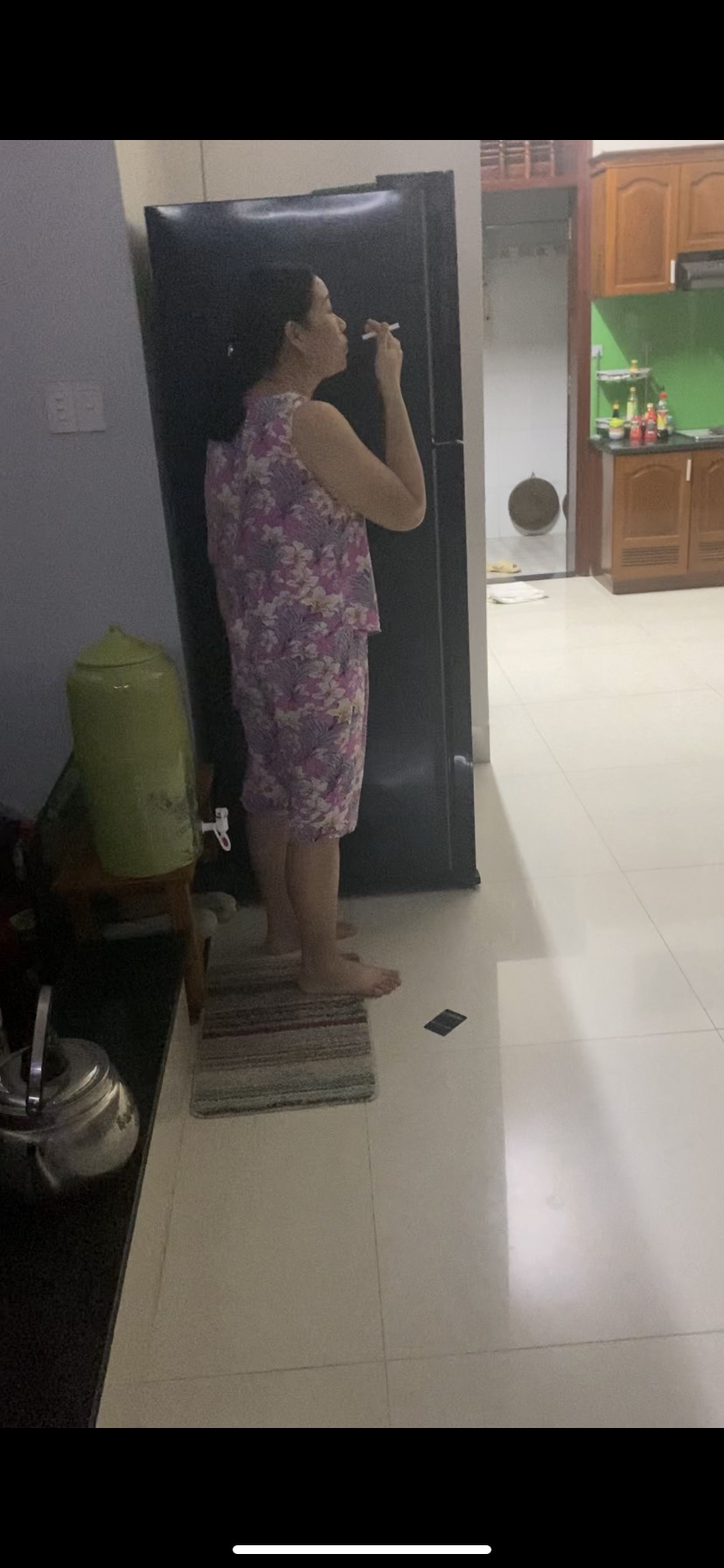cigarette: (388, 317, 403, 335)
person: (192, 220, 432, 1056)
